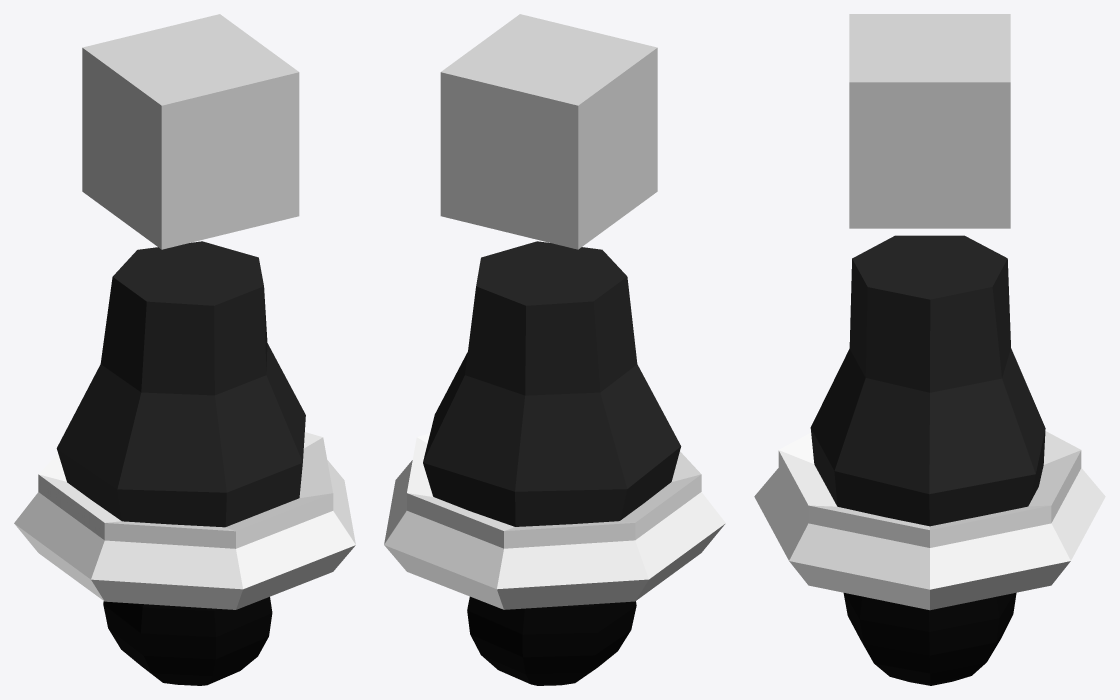
The model's file is floater selector.gltf.
3 views of the same model, side by side, from view 1: azimuth 30°, elevation 25°; view 2: azimuth 150°, elevation 25°; view 3: azimuth 270°, elevation 25° (orthographic).
Parts seen in each view (by area): view 1: pillar, Cube, ring, floater; view 2: pillar, Cube, ring, floater; view 3: pillar, Cube, ring, floater.
Part boxes in pixels (<box>): pillar: <box>56,241,305,527</box>; Cube: <box>82,14,299,249</box>; ring: <box>14,432,355,609</box>; floater: <box>103,597,272,685</box>; pillar: <box>423,241,681,526</box>; Cube: <box>440,14,657,249</box>; ring: <box>384,433,725,609</box>; floater: <box>467,596,636,685</box>; pillar: <box>810,235,1045,526</box>; Cube: <box>849,14,1010,228</box>; ring: <box>754,431,1105,610</box>; floater: <box>843,592,1016,685</box>.
Size of the model in its own units: 2.38 by 4.82 by 2.44.
Materials: 3 (3 with a texture image).
